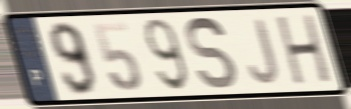5: (91, 19, 144, 94)
9: (45, 18, 99, 99), (141, 16, 192, 94)
H: (274, 11, 335, 89)
J: (246, 16, 282, 88)
S: (185, 14, 239, 93)
